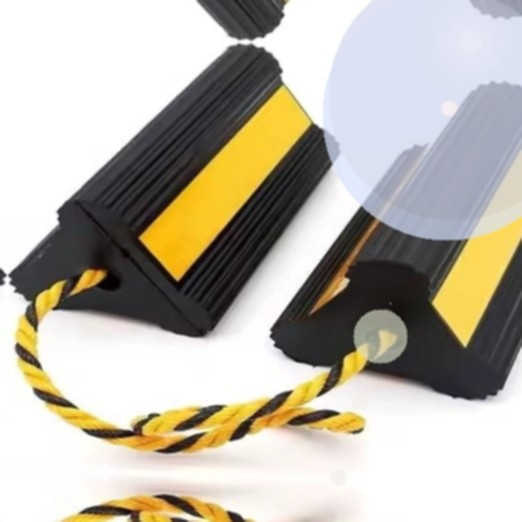chock: (5, 34, 347, 342), (267, 72, 522, 407)
